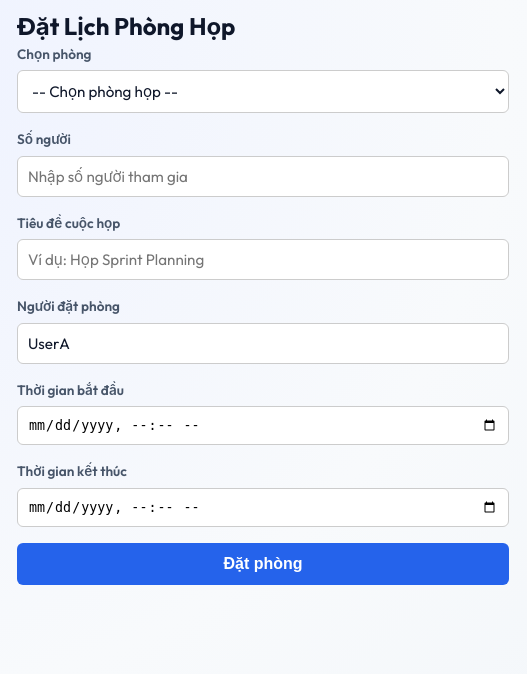
Test case: BookingForm Component (TDD - Red Phase) › TC-FE-02 & TC-FE-03: Validate form trống và giờ quá khứ -> Báo lỗi đỏ, KHÔNG gọi API
Note: Nhấn submit mà không điền thông tin (trống form)
Click the button "Đặt phòng".
click(263, 564)  # box [17, 543, 509, 585]
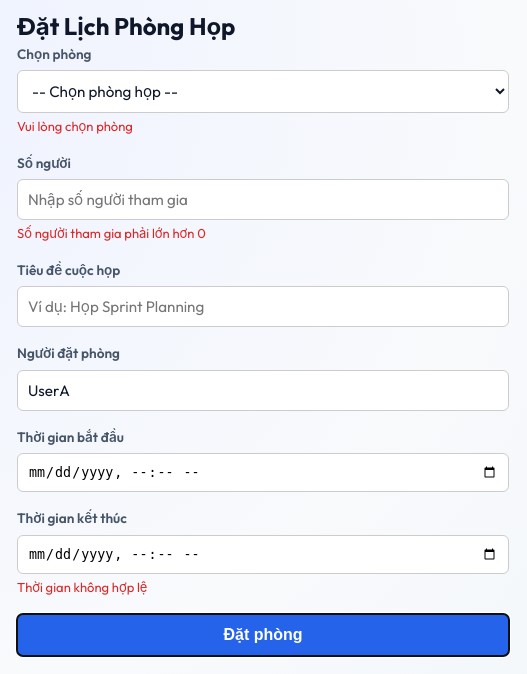
Check: the text "Vui lòng chọn phòng" is shown, box [17, 118, 133, 134]
Check: the text "Thời gian không hợp lệ" is shown, box [17, 579, 147, 595]
Check: the text "Số người tham gia phải lớn hơn 0" is shown, box [17, 225, 206, 241]
